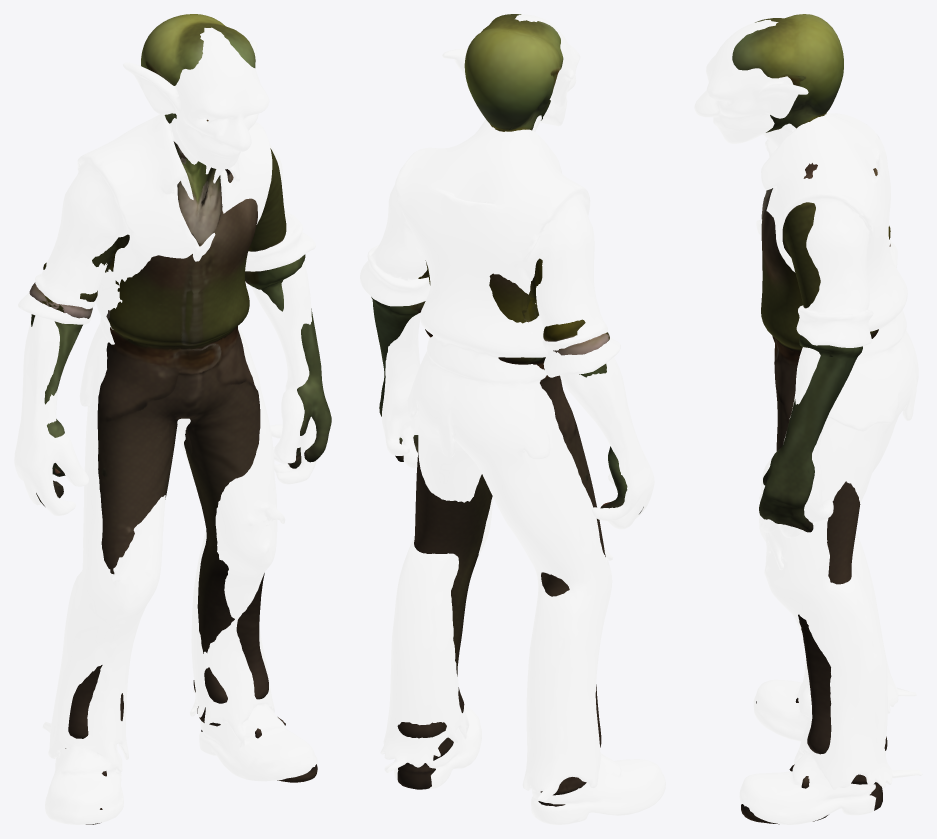
File: goblin_wrapped.glb
3 renders of one model, left to right at view 1: azimuth 30°, elevation 25°; view 2: azimuth 150°, elevation 25°; view 3: azimuth 270°, elevation 25°, orthographic. The views are drawn at different scales.
Parts seen in each view (by area): view 1: Outfit, Body; view 2: Outfit, Body; view 3: Outfit, Body.
Part boxes in pixels (bbox=[...]): Outfit: bbox=[14, 27, 317, 824]; Body: bbox=[29, 14, 331, 824]; Outfit: bbox=[360, 14, 665, 824]; Body: bbox=[371, 14, 643, 806]; Outfit: bbox=[694, 20, 922, 824]; Body: bbox=[732, 14, 890, 824].
Size of the model in its own units: 0.7313 by 1.85 by 0.5076.
Materials: 2 (1 with a texture image).
